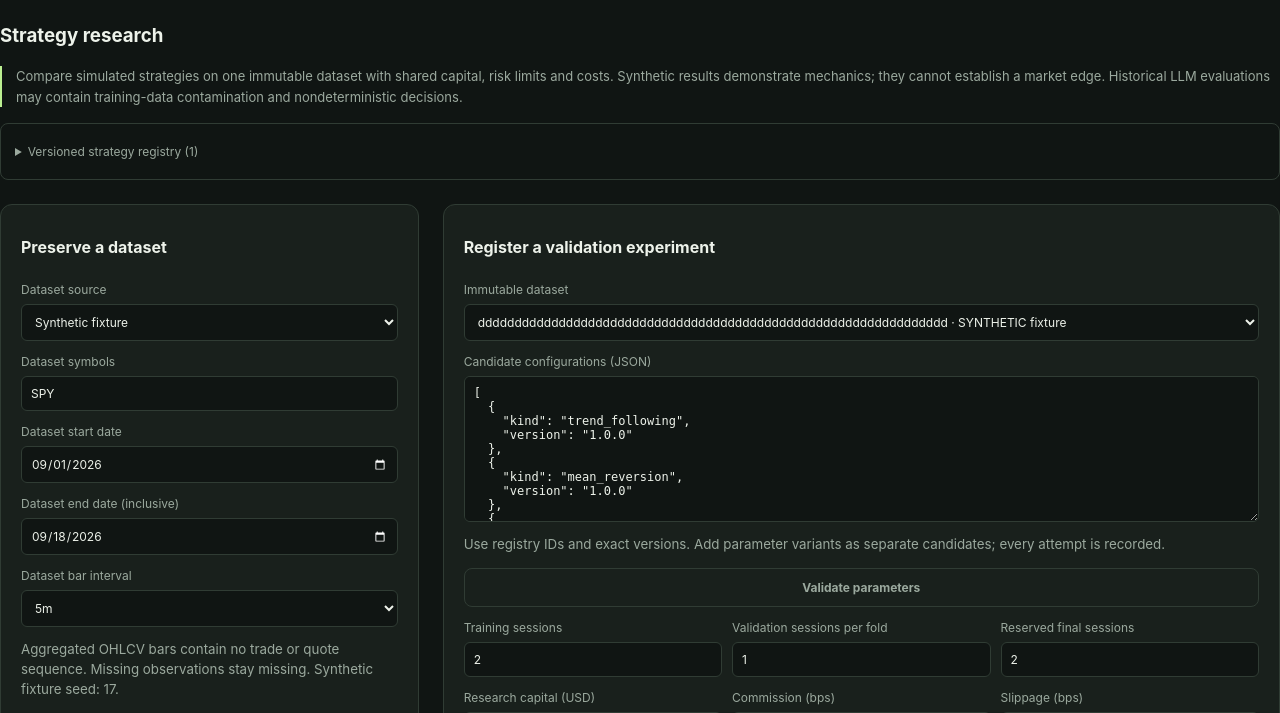
validates each configured strategy before reporting success
Click the button "Validate parameters".
click(861, 588)  # box [464,568,1259,607]
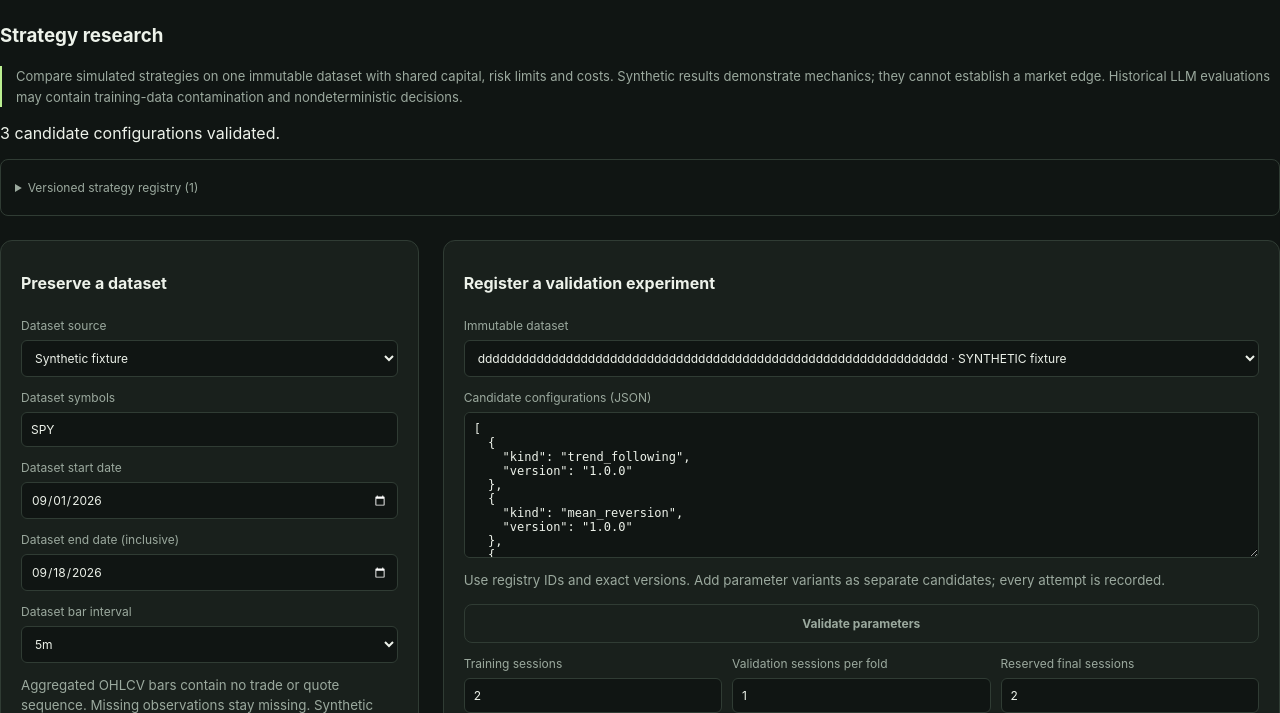
Expected: the message reads "3 candidate configurations validated.", [0,123,280,143]
